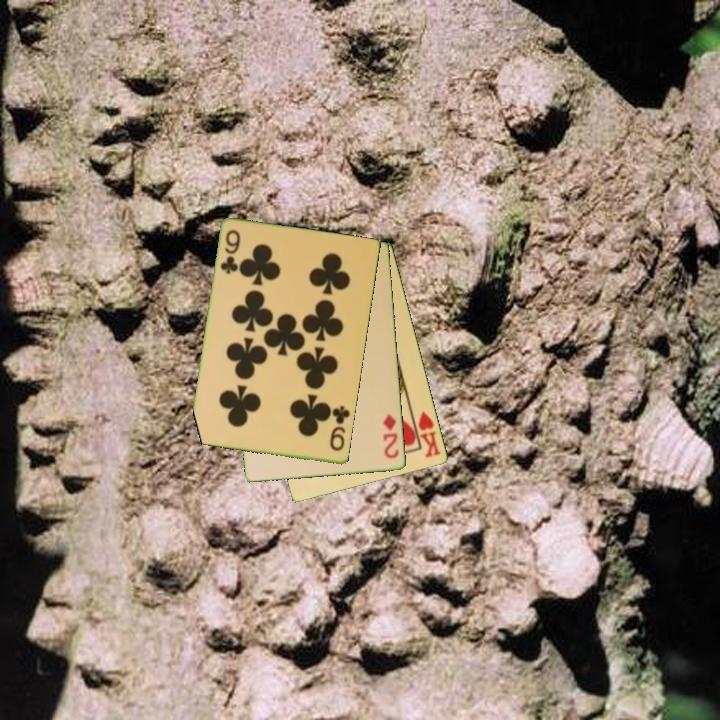2d: (379, 411, 402, 462)
9c: (326, 403, 353, 454), (217, 227, 243, 277)
Kh: (409, 407, 444, 461)
